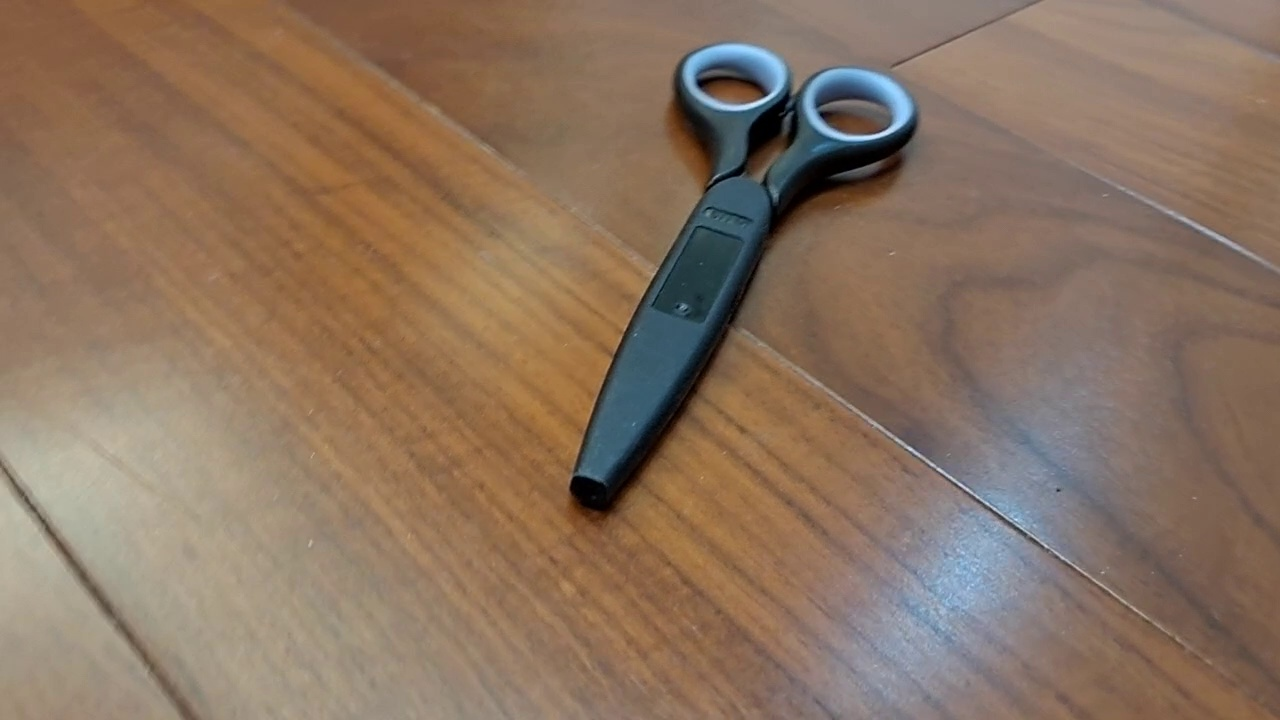scissors: (567, 39, 919, 514)
